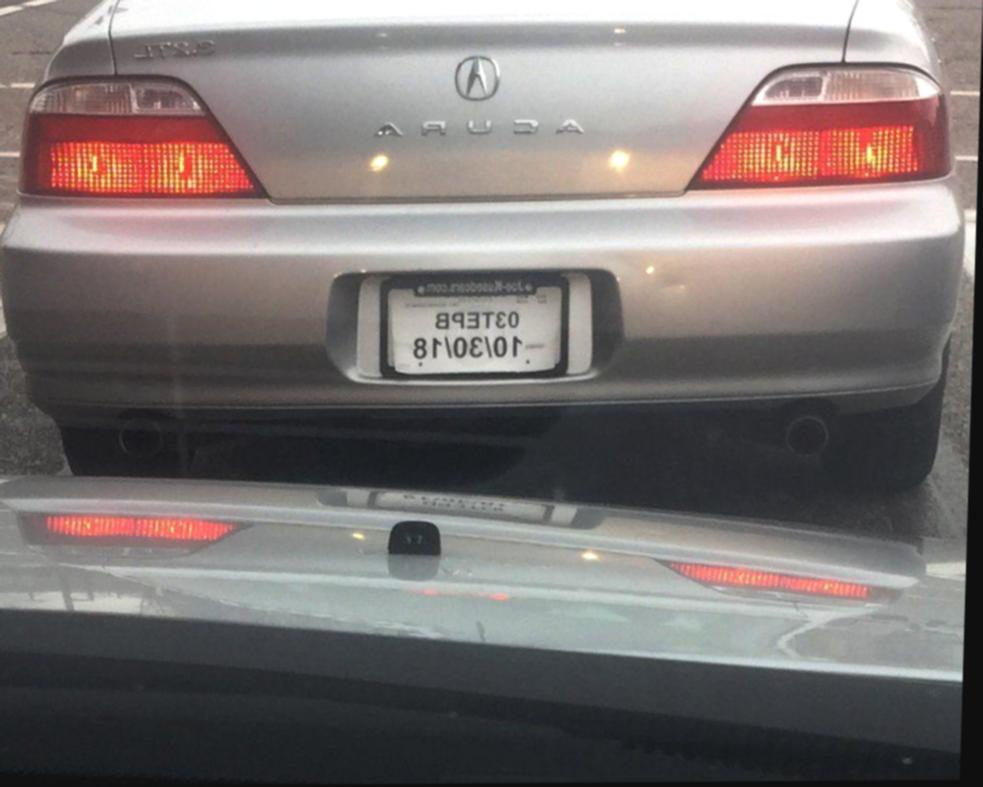License_Plate: (368, 265, 577, 397)
